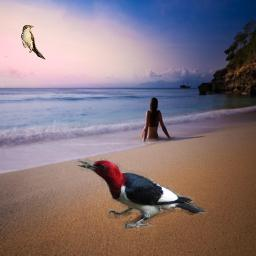Cuckoo: (21, 25, 46, 61)
Woodpecker: (72, 156, 208, 232)
